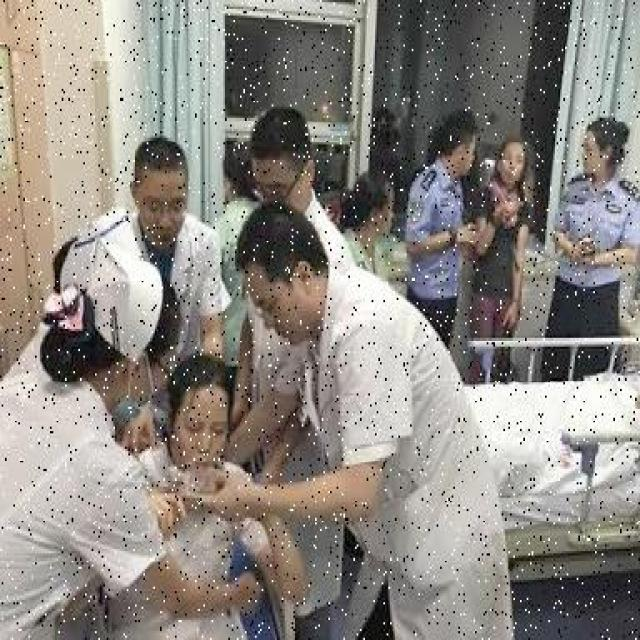fall: (109, 380, 278, 638)
